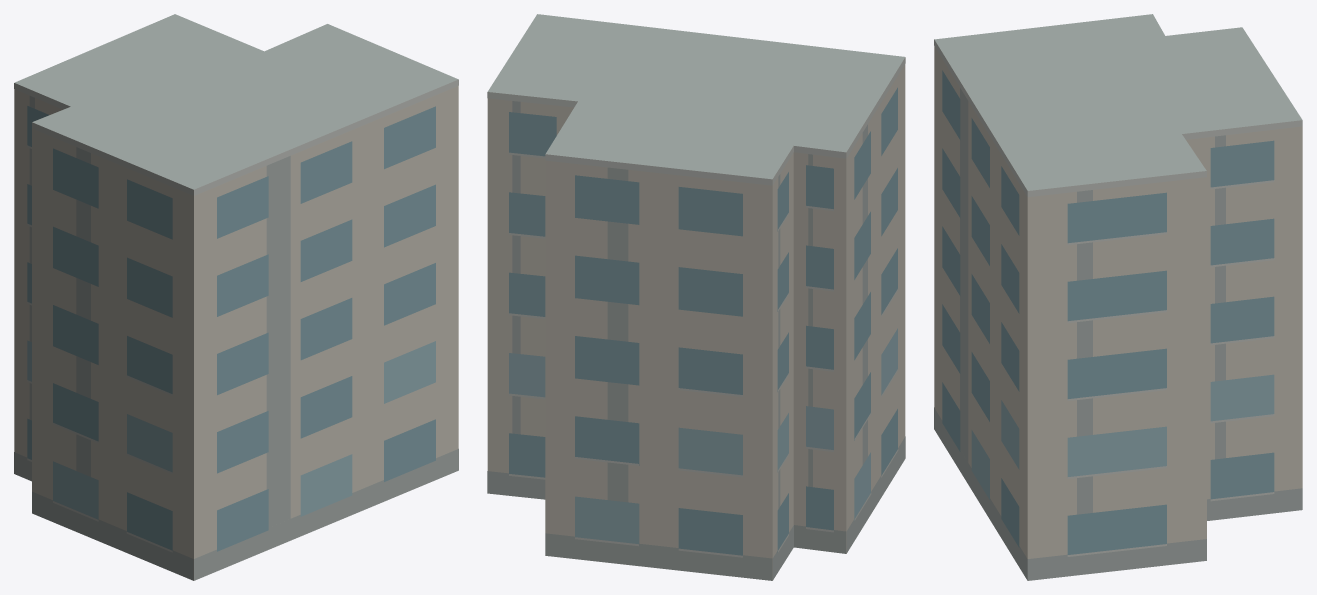
The model's file is survey-upis-32509170.glb.
3 views of the same model, side by side, from view 1: azimuth 30°, elevation 25°; view 2: azimuth 150°, elevation 25°; view 3: azimuth 270°, elevation 25° (orthographic). The views are drawn at different scales.
Parts seen in each view (by area): view 1: survey-upis-32509170.tmp; view 2: survey-upis-32509170.tmp; view 3: survey-upis-32509170.tmp.
Boxes of the visible parts, x1,y1,x2,y2 form: survey-upis-32509170.tmp: [14, 14, 458, 580]; survey-upis-32509170.tmp: [487, 14, 905, 580]; survey-upis-32509170.tmp: [934, 14, 1302, 580].
Size of the model in its own units: 14.86 by 15.25 by 13.07.
